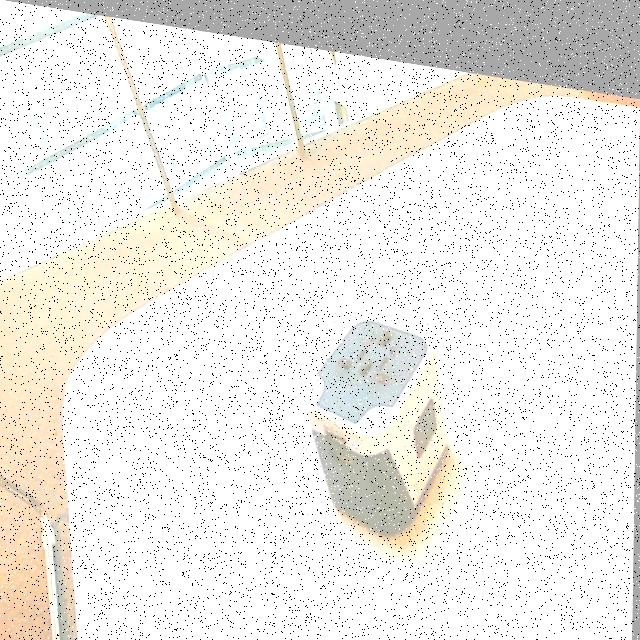adapter: (304, 294, 453, 530)
